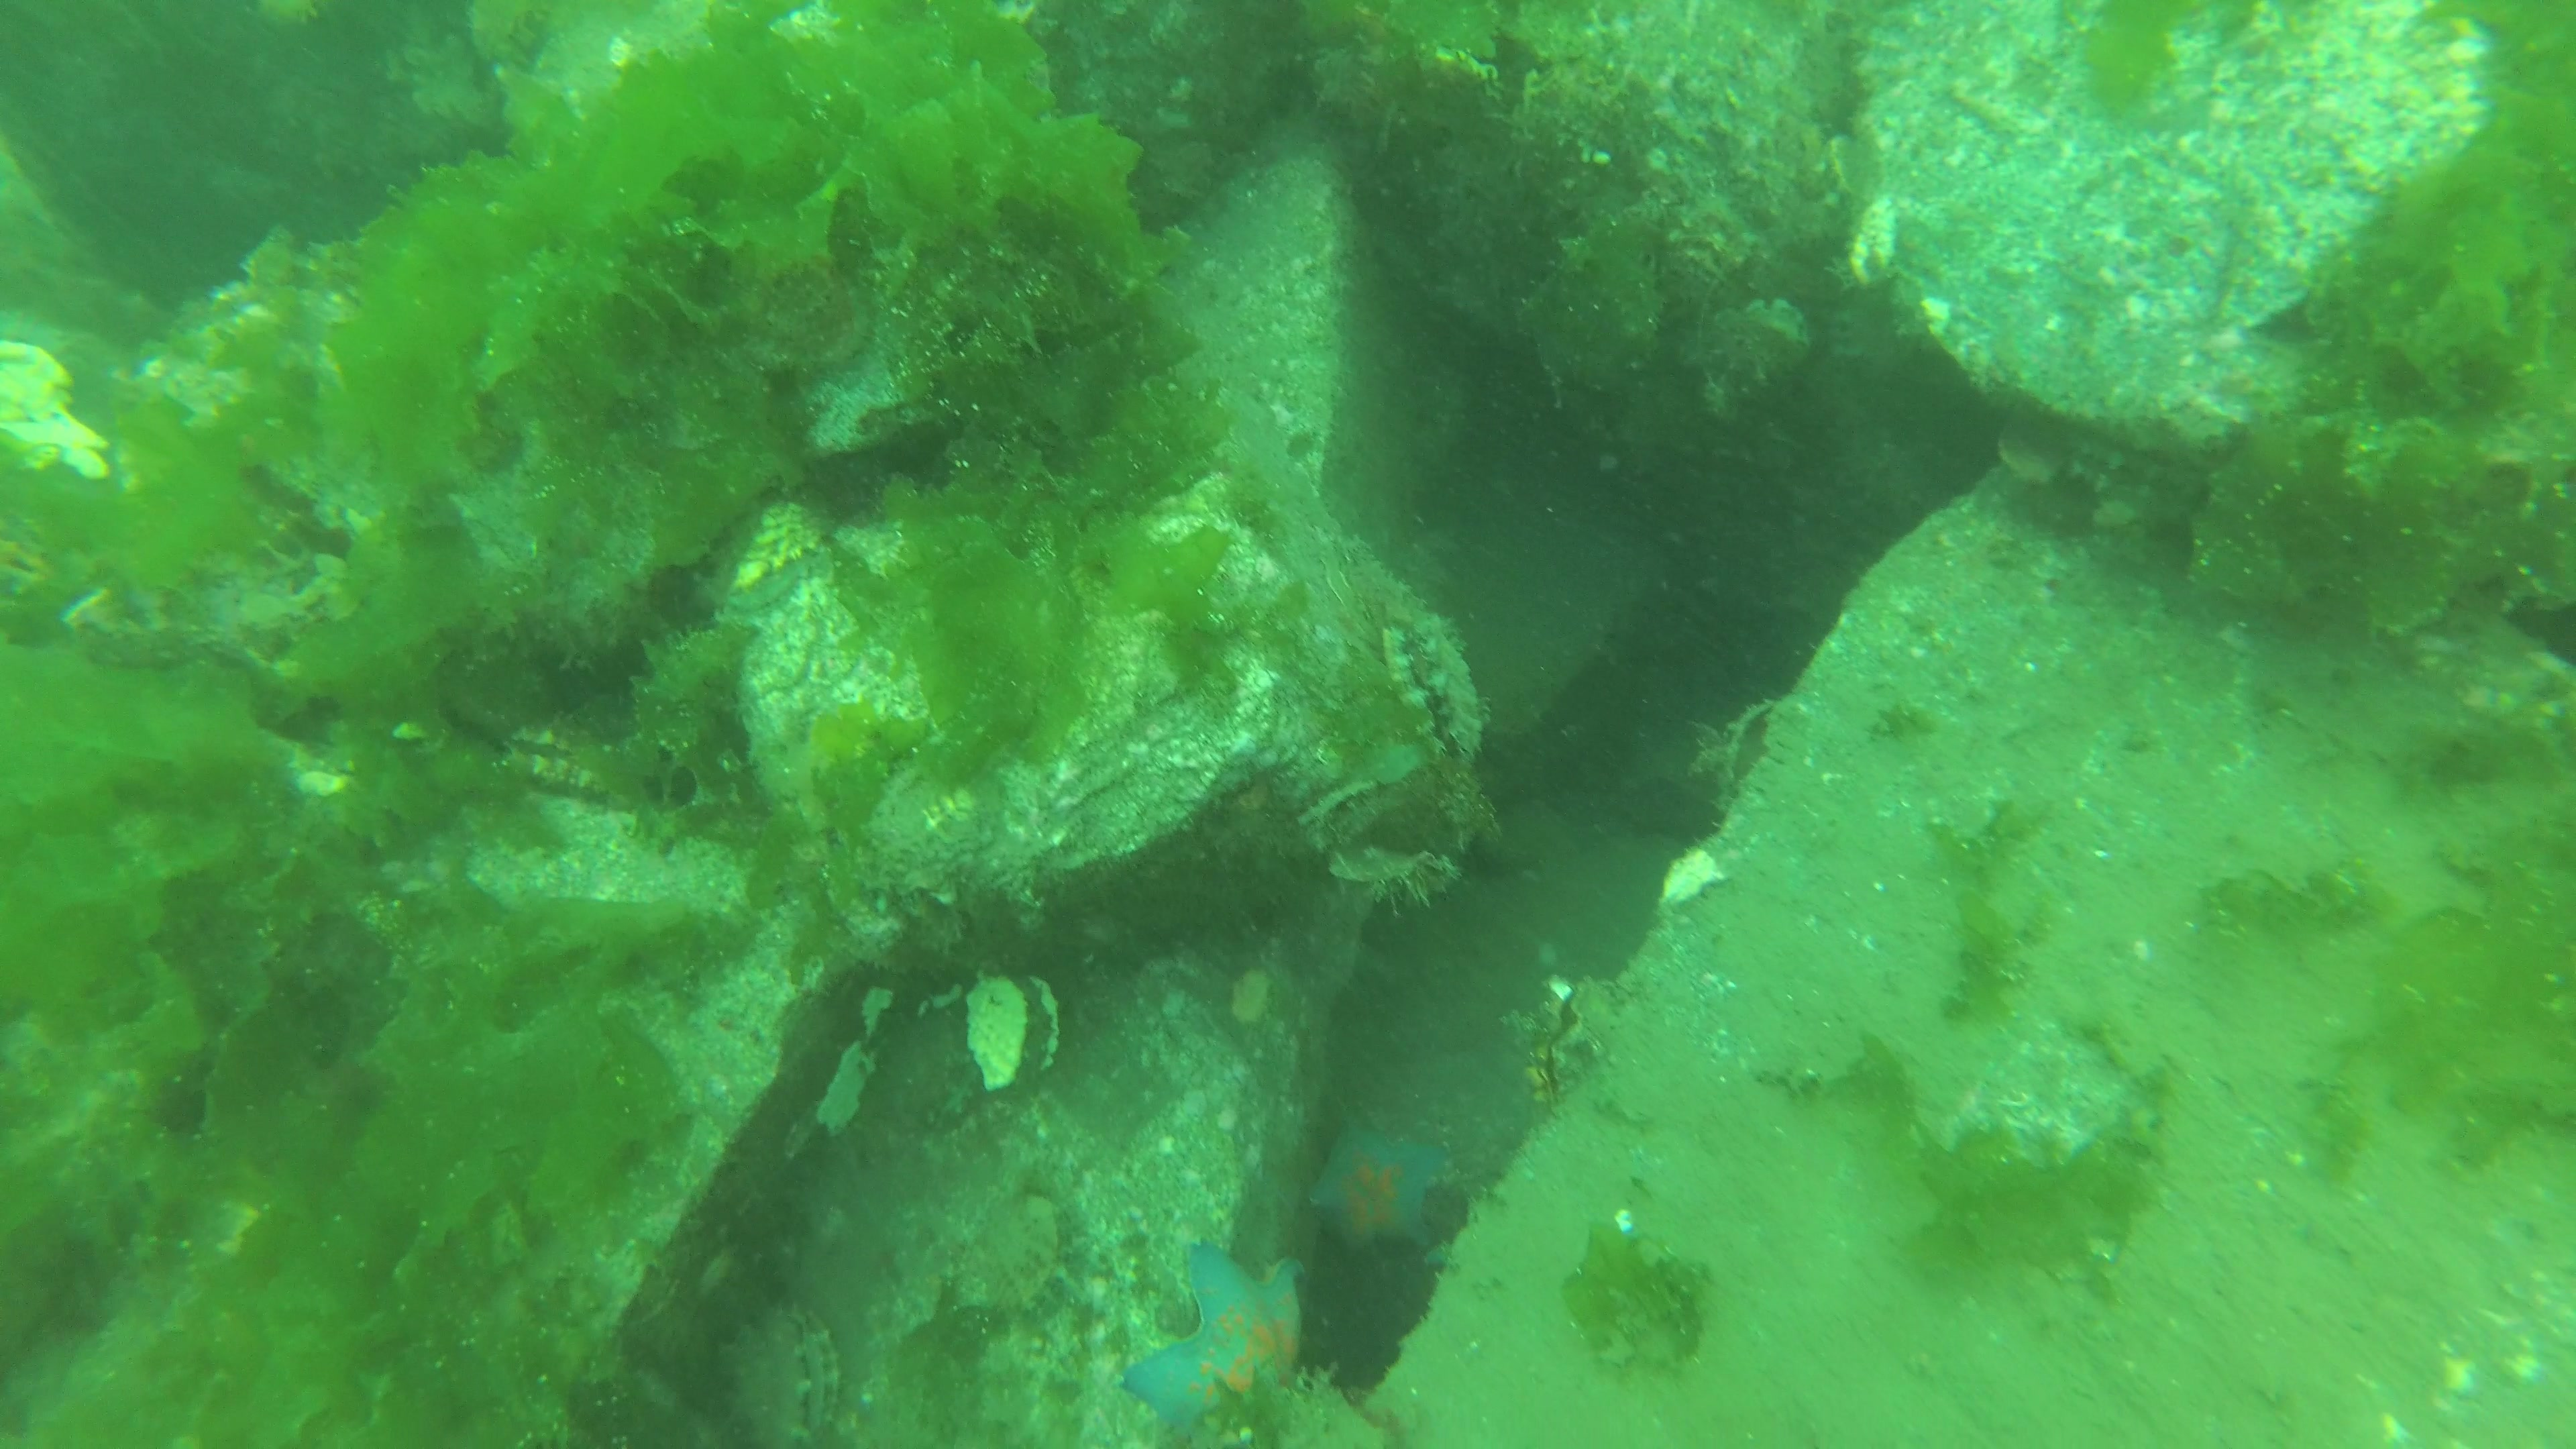starfish: (1113, 1242, 1309, 1430), (1306, 1123, 1449, 1253)
